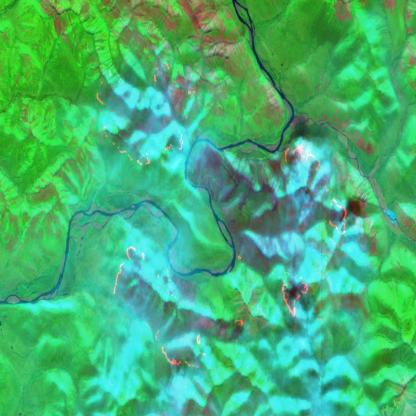fire: (116, 249, 253, 371), (92, 57, 198, 164), (274, 136, 352, 240), (280, 267, 313, 320)
